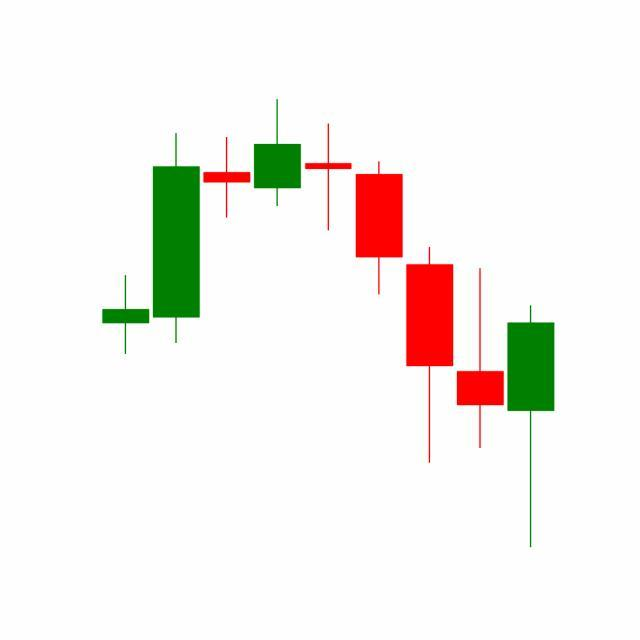Hikkake Pattern: (302, 119, 555, 548)
